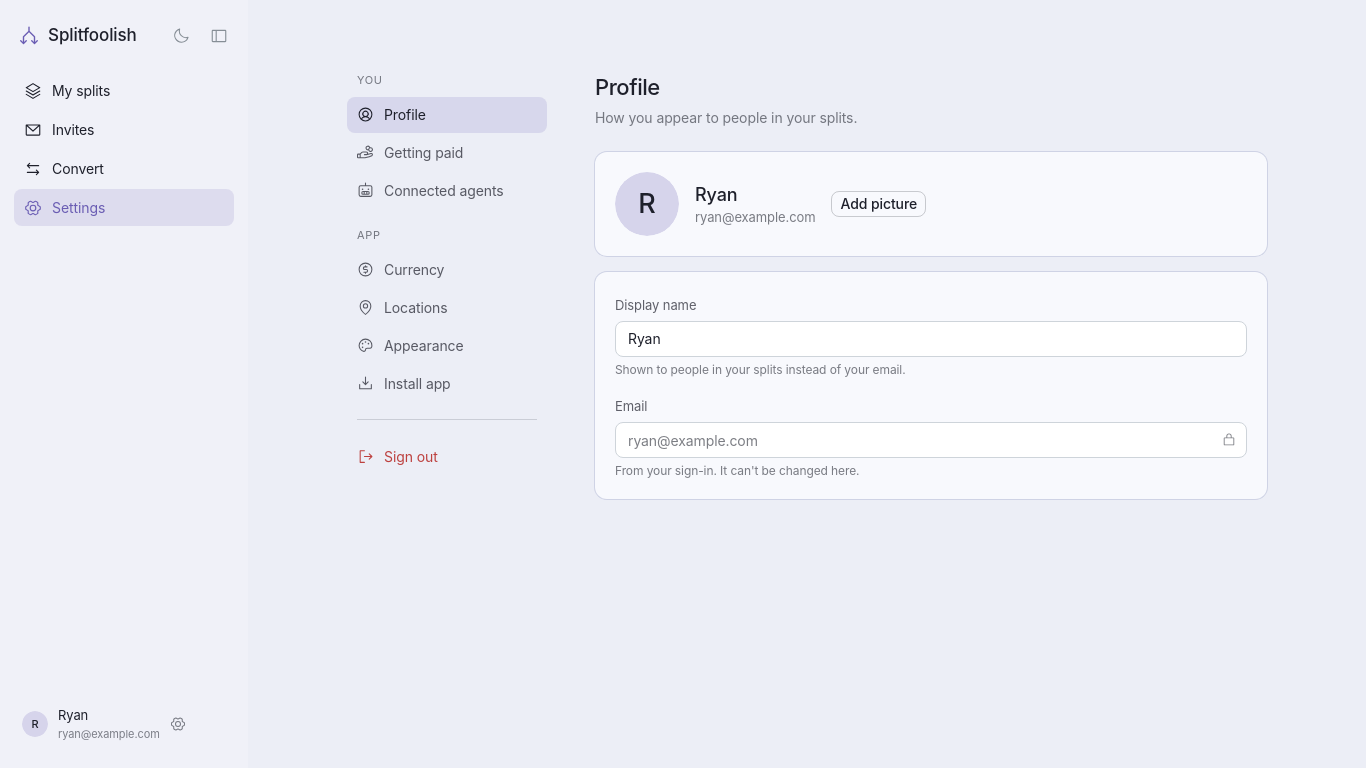
Settings › saves a new display name, beside the email from sign-in, which cannot be changed
Expected: the field labelled "Email" holds "ryan@example.com", [615,422,1247,458]
Replace the text in the field labelled "Display name" with "Ryan N" at [931, 339], box [615,321,1247,357]
Then press Enter
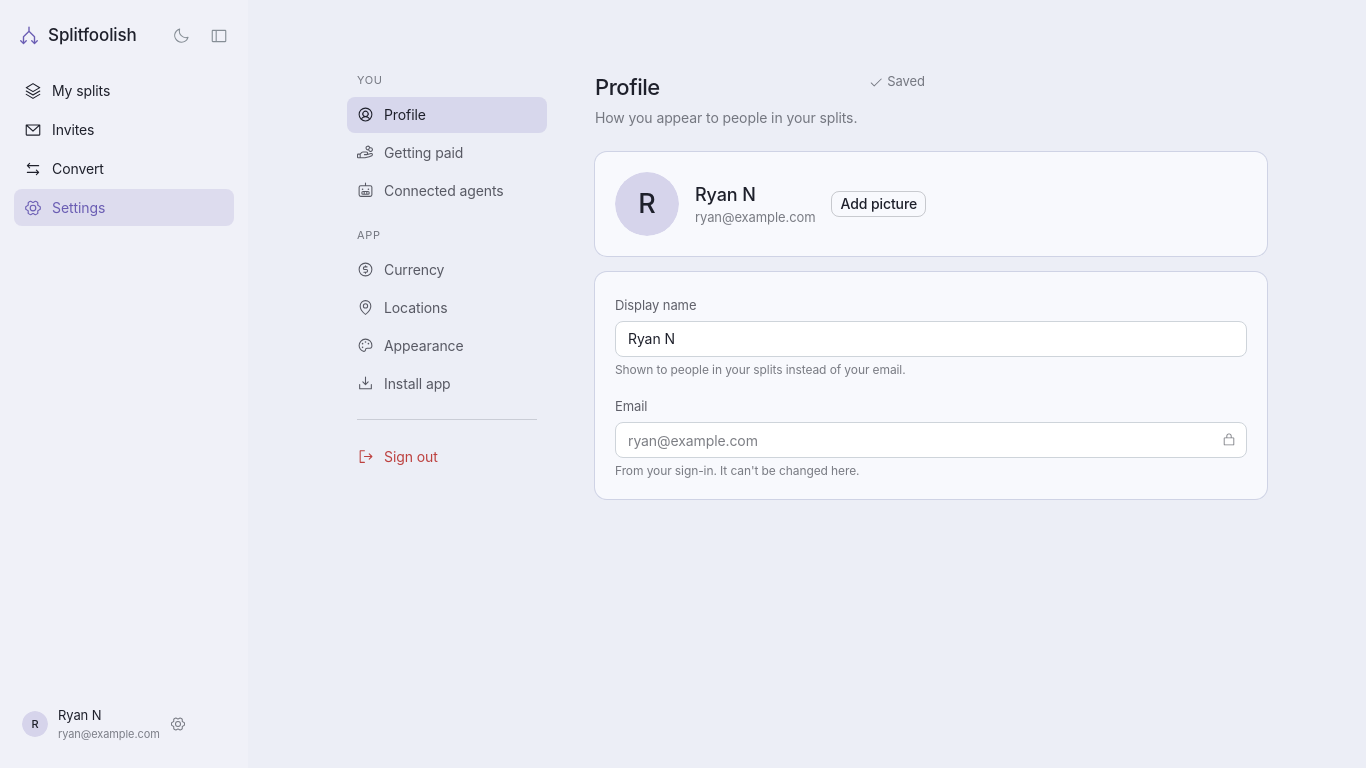
Expected: the 2nd text "ryan@example.com" is shown, [58,726,160,742]
Expected: the 2nd text "Ryan N" is shown, [58,707,102,723]
Expected: the text "Saved" is shown, [869,72,925,92]
